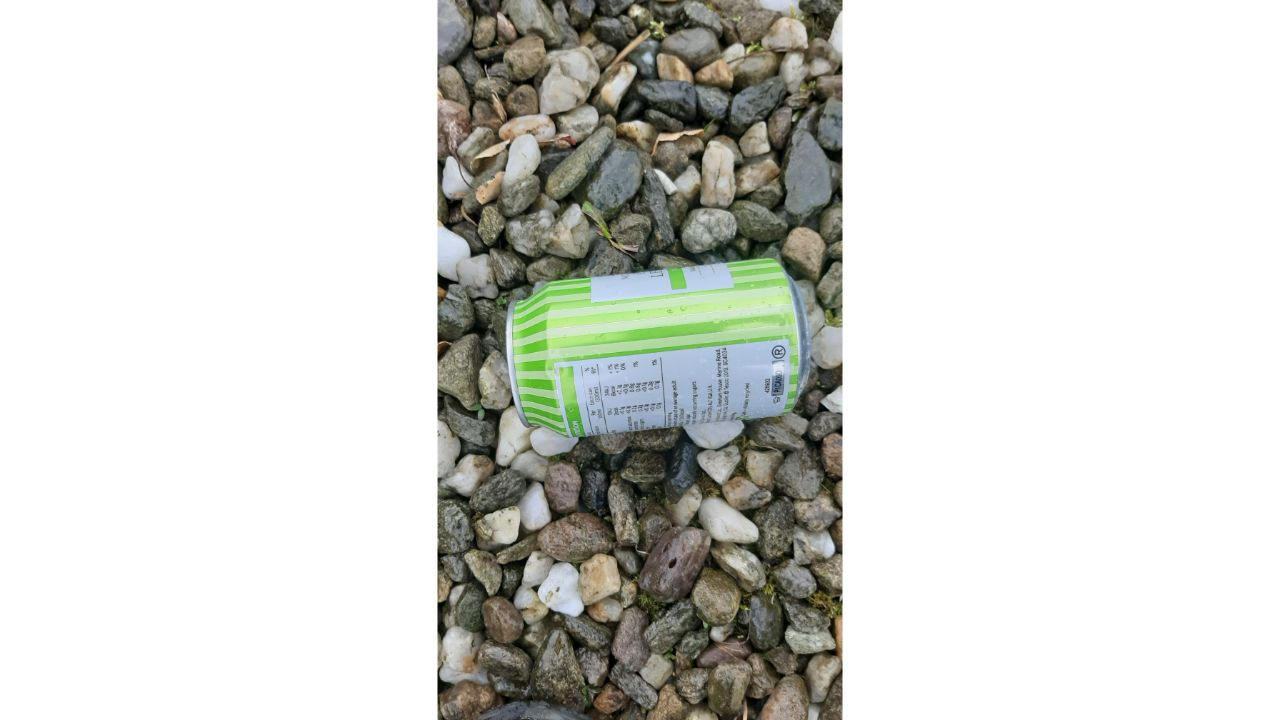Can: (482, 244, 819, 449)
